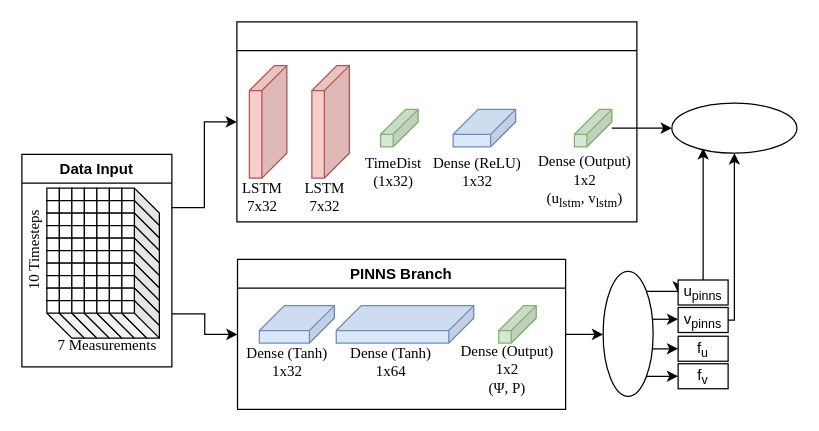
Some shapes in this 819 by 431 pixel diagram are drawn without their labels. Here are the shapes that lost their labels. From the top down, the box of each, then its label:
(236, 21, 637, 222): LSTM Branch
(671, 102, 797, 153): Prediction
(602, 270, 653, 396): autograd (Gradients)
